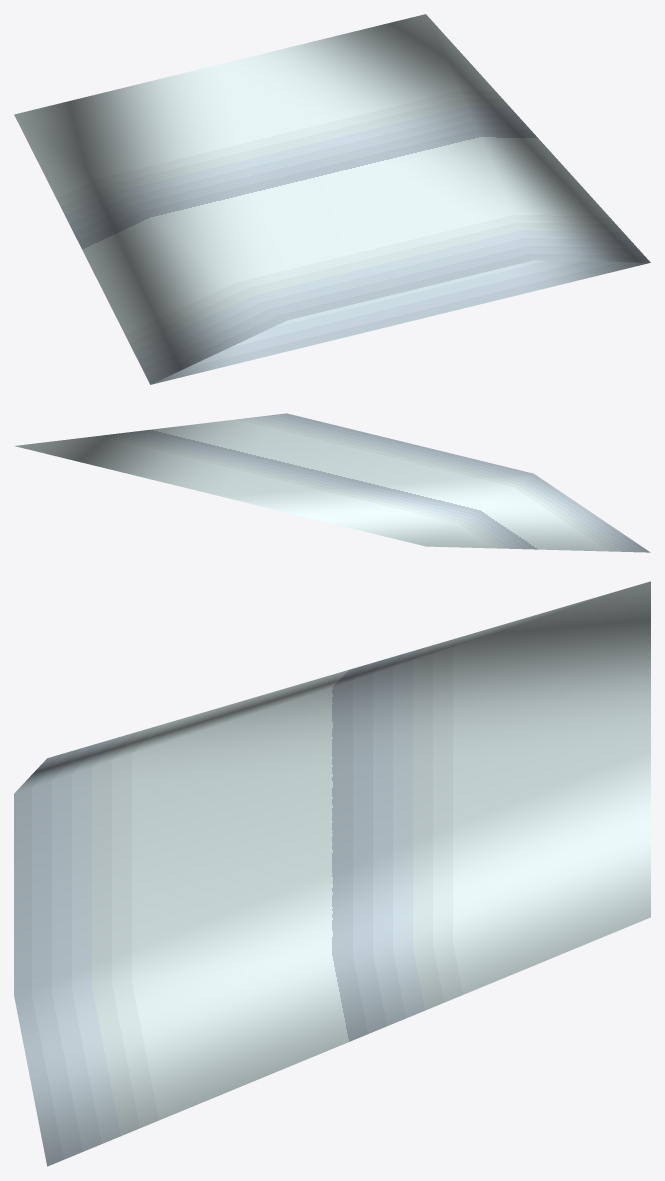
The model's file is 2271skirt00_r.gltf.
3 renders of one model, top to bottom at view 1: azimuth 30°, elevation 25°; view 2: azimuth 150°, elevation 25°; view 3: azimuth 270°, elevation 25°, orthographic. The views are drawn at different scales.
Parts seen in each view (by area): view 1: 2271skirt00_r; view 2: 2271skirt00_r; view 3: 2271skirt00_r.
Part boxes in pixels (<box>): 2271skirt00_r: <box>14,14,650,384</box>; 2271skirt00_r: <box>15,413,650,552</box>; 2271skirt00_r: <box>14,581,650,1166</box>.
Bounding box in the file's own units: 0.9868 × 0.24 × 0.6504.
Materials: 1 (1 with a texture image).
